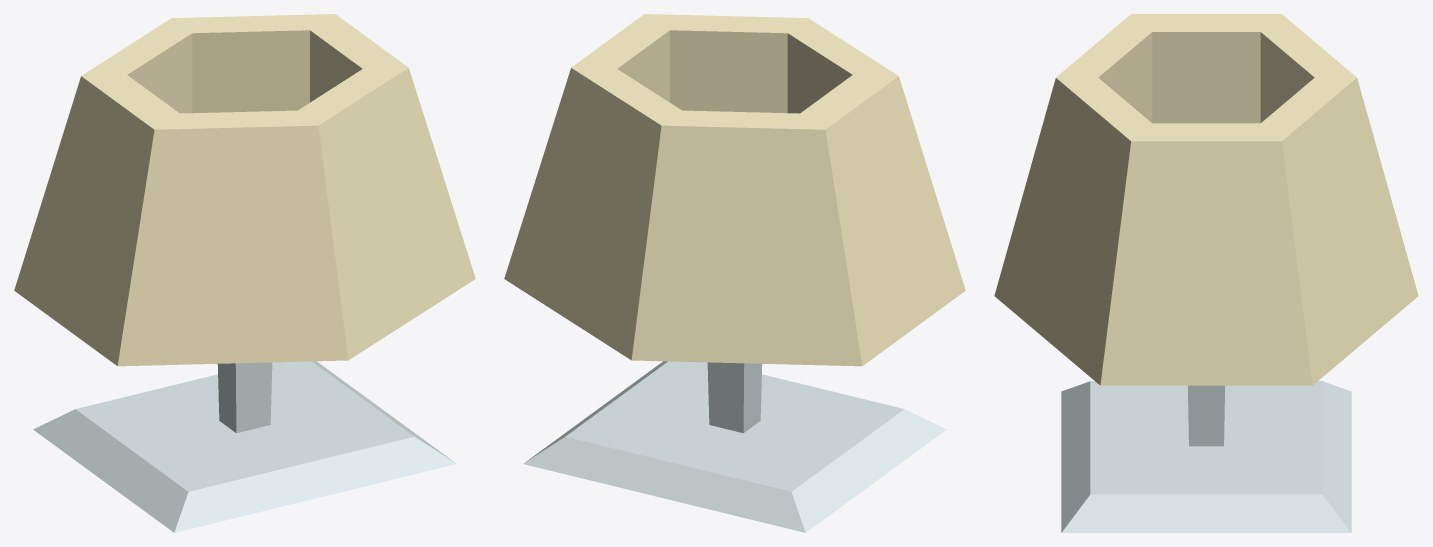
Rendered from kn-lamp-round-table.glb.
3 views of the same model, side by side, from view 1: azimuth 30°, elevation 25°; view 2: azimuth 150°, elevation 25°; view 3: azimuth 270°, elevation 25° (orthographic). The views are drawn at different scales.
Visible parts, largest first — view 1: lampRoundTable(Clone); view 2: lampRoundTable(Clone); view 3: lampRoundTable(Clone).
Part boxes in pixels (bbox=[...]): lampRoundTable(Clone): bbox=[14, 14, 475, 532]; lampRoundTable(Clone): bbox=[504, 14, 965, 532]; lampRoundTable(Clone): bbox=[994, 14, 1418, 532].
Size of the model in its own units: 1 by 1 by 1.
